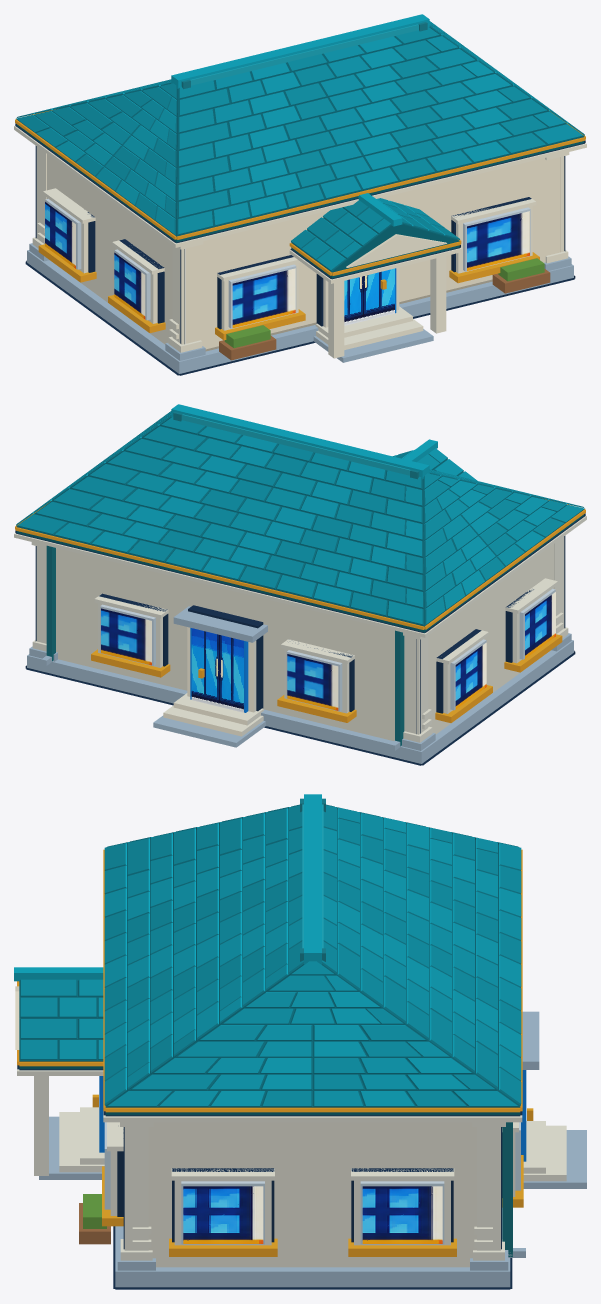
The picture shows the model from 3 angles, top to bottom: view 1: azimuth 30°, elevation 25°; view 2: azimuth 150°, elevation 25°; view 3: azimuth 270°, elevation 25°; orthographic projection. The views are drawn at different scales.
Visible parts, largest first — view 1: H05 转角门廊屋; view 2: H05 转角门廊屋; view 3: H05 转角门廊屋.
Boxes of the visible parts, x1,y1,x2,y2 form: H05 转角门廊屋: [14, 14, 586, 375]; H05 转角门廊屋: [14, 404, 586, 765]; H05 转角门廊屋: [14, 794, 586, 1289].
Size of the model in its own units: 6.94 by 3.6 by 6.44.
2 materials, 1 textured.
